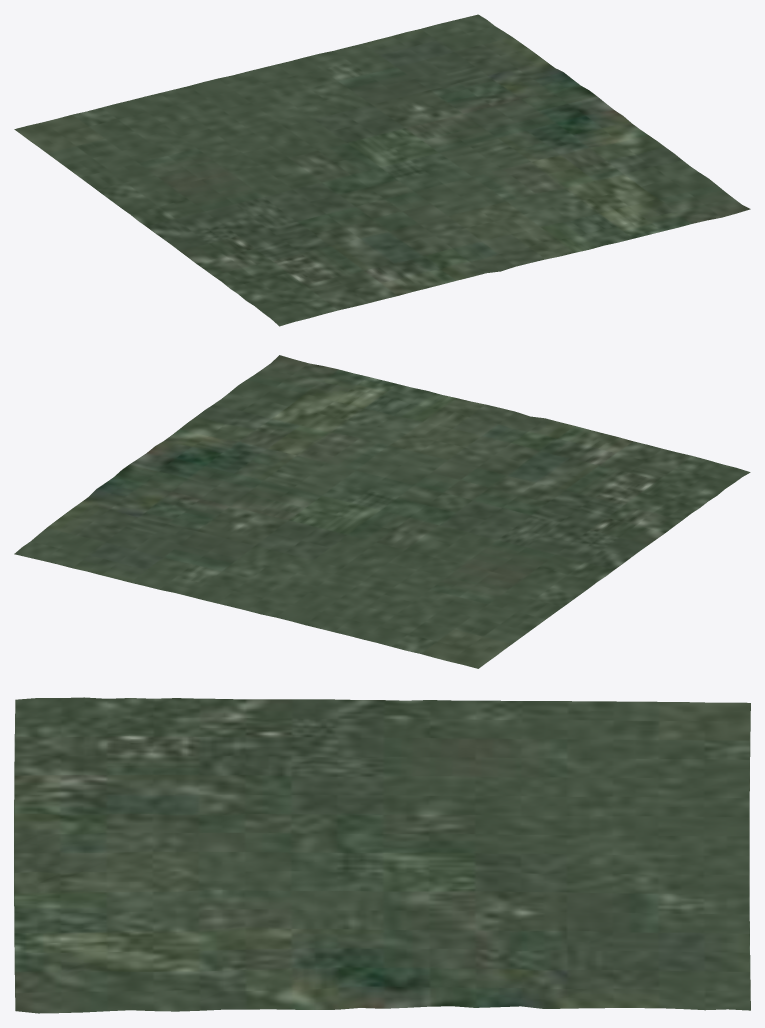
The picture shows the model from 3 angles, top to bottom: view 1: azimuth 30°, elevation 25°; view 2: azimuth 150°, elevation 25°; view 3: azimuth 270°, elevation 25°; orthographic projection. The views are drawn at different scales.
Size of the model in its own units: 123995 by 1477 by 122790.
Materials: 1 (1 with a texture image).
